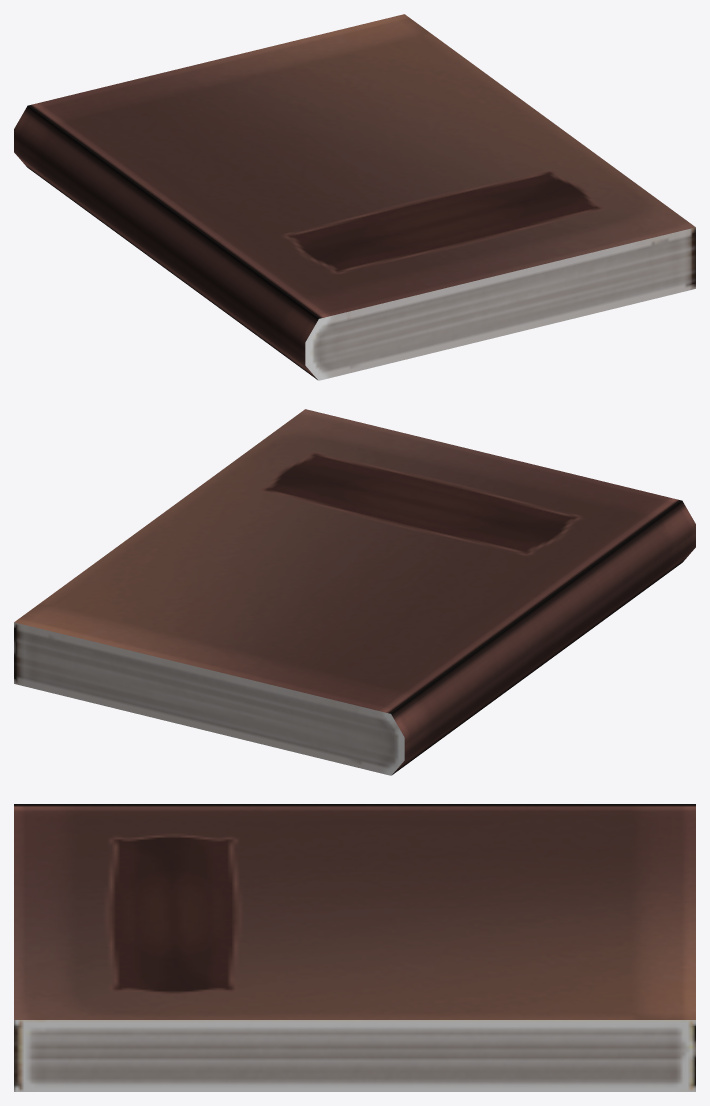
The model's file is Book01B.FBX.
3 views of the same model, one above another, from view 1: azimuth 30°, elevation 25°; view 2: azimuth 150°, elevation 25°; view 3: azimuth 270°, elevation 25° (orthographic). The views are drawn at different scales.
Parts seen in each view (by area): view 1: Book01B; view 2: Book01B; view 3: Book01B.
Boxes of the visible parts, bbox=[...] form: Book01B: bbox=[14, 14, 695, 380]; Book01B: bbox=[14, 409, 695, 775]; Book01B: bbox=[14, 804, 695, 1091].
Size of the model in its own units: 29.76 by 38.44 by 4.51.
